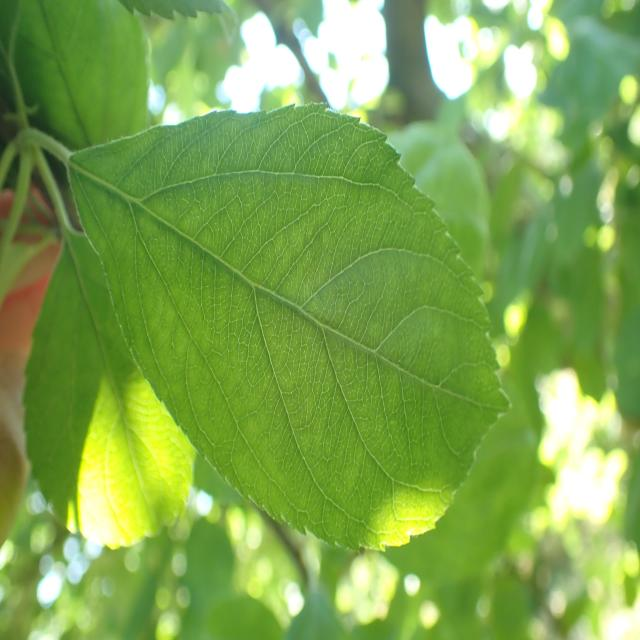healthy: (66, 100, 513, 556), (22, 229, 196, 553), (0, 0, 151, 150)
